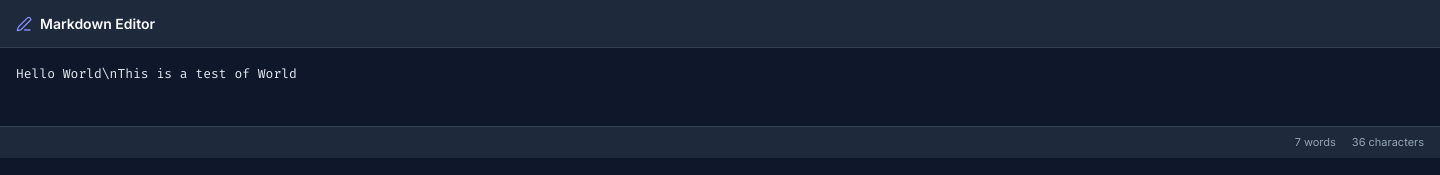
Test case: Editor Component Search and Replace › opens find panel and highlights matched terms
Trigger Ctrl+F shortcut to open the panel
Press f
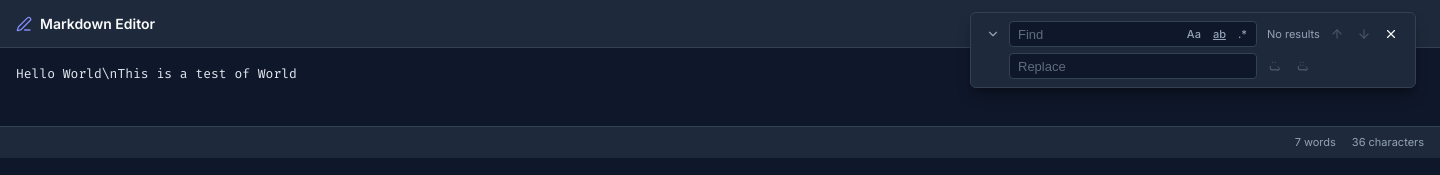
Now the field with placeholder "Find" is shown
Type query "World"
Type "World" into the field with placeholder "Find".
click(1133, 34); type("World")  # box [1010,22,1256,46]
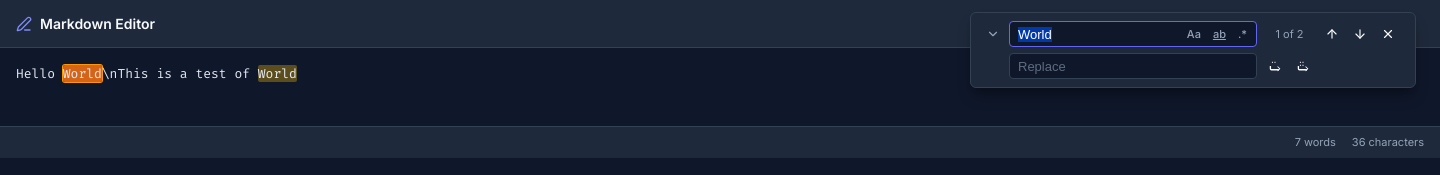
Now the text with class "find-replace-status" reads "1 of 2", box [1276,27,1304,41]
